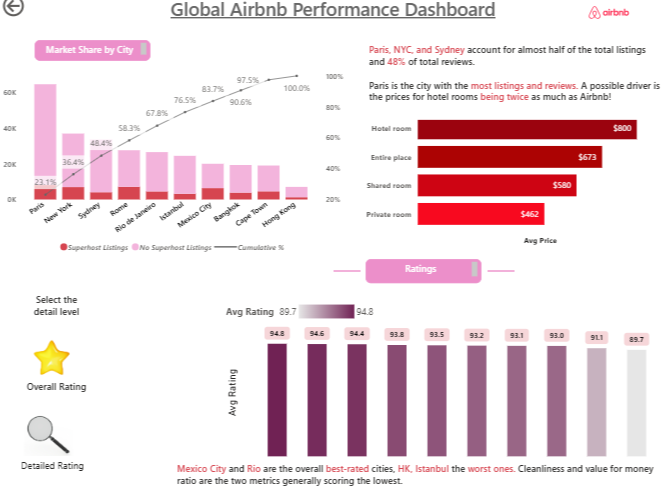

The page's visual inventory and layout, read from the dashboard file:
{"tool":"powerbi","page":{"name":"Ratings","canvas":[960,720],"ordinal":1},"visuals":[{"type":"textbox","box":[112.1,0,735.8,59],"z":0},{"type":"image","box":[794.9,0,165.6,59],"z":1000},{"type":"textbox","box":[50.4,69.1,167,30.2],"z":2000},{"type":"lineStackedColumnComboChart","fields":{"Category":["Listings.city"],"Y":["Listings.Superhost Listings","Listings.No Superhost Listings"],"Y2":["Listings.Cumulative %"]},"box":[0,105.1,501.1,279.4],"z":3000},{"type":"actionButton","box":[0,0,100,40],"z":4000},{"type":"barChart","fields":{"Y":["Listings.Avg Price"],"Category":["Listings.room_type"]},"box":[521.3,151.2,439.2,218.9],"z":5000},{"type":"textbox","box":[527,69.1,433.4,115.2],"z":6000},{"type":"columnChart","fields":{"Category":["Listings.city"],"Y":["Listings.Avg Rating"]},"box":[321.1,442.1,639.4,277.9],"z":7000},{"type":"textbox","box":[527,384.5,167,34.6],"z":8000},{"type":"image","box":[2.9,601.9,135.4,70.6],"z":8000,"group":"g2"},{"type":"shape","box":[481,384.5,38.9,34.6],"z":9000},{"type":"shape","box":[702.7,384.5,38.9,34.6],"z":10000},{"type":"image","box":[31.7,478.1,89.3,97.9],"z":10000,"group":"g1"},{"type":"textbox","box":[34.6,429.1,95,54.7],"z":12000},{"type":"group","id":"g1","title":"Group 1","box":[20.2,478.1,123.8,108],"z":13000},{"type":"group","id":"g2","title":"Group 3","box":[2.9,601.9,141.1,95],"z":14000},{"type":"textbox","box":[250.6,672.5,709.9,44.6],"z":15000},{"type":"textbox","box":[20.2,554.4,123.8,31.7],"z":16000,"group":"g1"},{"type":"textbox","box":[8.7,668.1,135.4,28.8],"z":17000,"group":"g2"}]}

Visuals, with their boxes in screenshot pixels (x1, y1, x2, y2), scaled from the page's 960x720 canvas onto the 662x492 screenshot:
textbox: 77, 0, 585, 40
image: 548, 0, 661, 40
textbox: 35, 47, 150, 68
lineStackedColumnComboChart - Listings.city x Listings.Superhost Listings: 0, 72, 346, 263
actionButton: 0, 0, 69, 27
barChart - Listings.Avg Price x Listings.room_type: 359, 103, 661, 253
textbox: 363, 47, 661, 126
columnChart - Listings.city x Listings.Avg Rating: 221, 302, 661, 491
textbox: 363, 263, 479, 286
image: 2, 411, 95, 460
shape: 332, 263, 359, 286
shape: 485, 263, 511, 286
image: 22, 327, 83, 394
textbox: 24, 293, 89, 331
"Group 1" group: 14, 327, 99, 401
"Group 3" group: 2, 411, 99, 476
textbox: 173, 460, 661, 490
textbox: 14, 379, 99, 401
textbox: 6, 457, 99, 476
